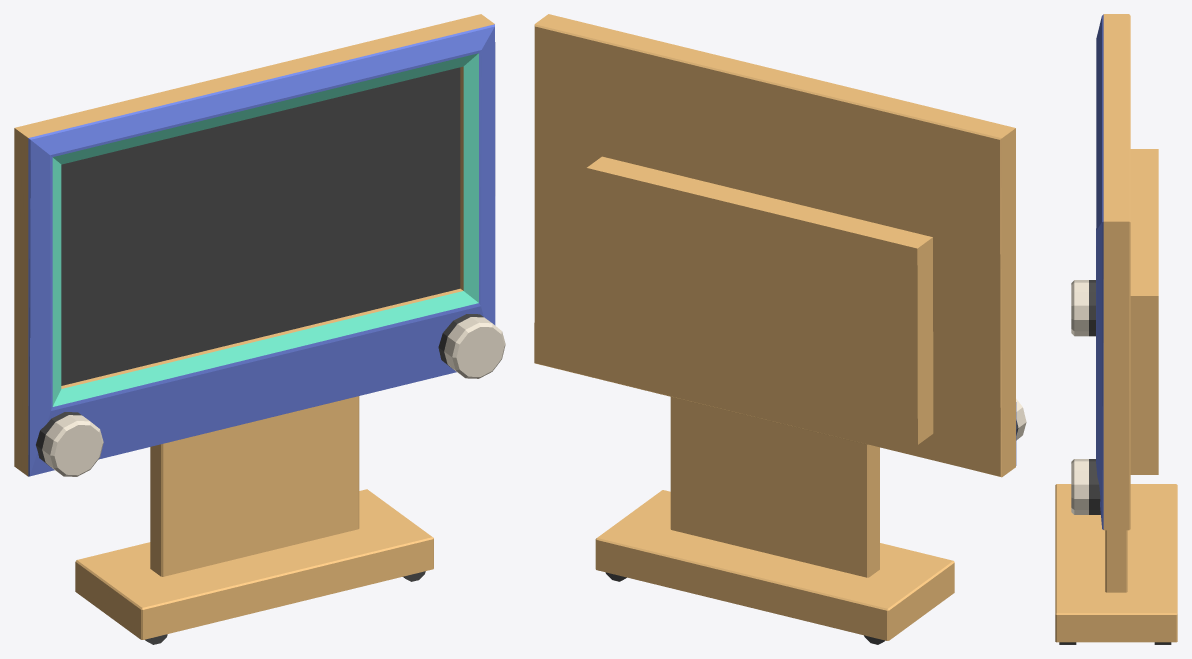
Rendered from Monitor_01.FBX.
3 views of the same model, side by side, from view 1: azimuth 30°, elevation 25°; view 2: azimuth 150°, elevation 25°; view 3: azimuth 270°, elevation 25° (orthographic). The views are drawn at different scales.
Parts seen in each view (by area): view 1: Monitor_01, Monitor_Panel_01; view 2: Monitor_01; view 3: Monitor_01.
Part boxes in pixels (box(x1,y1,x2,y2)): Monitor_01: box(14, 14, 505, 644); Monitor_Panel_01: box(61, 67, 460, 385); Monitor_01: box(534, 14, 1026, 644); Monitor_01: box(1055, 14, 1177, 644).
Bounding box in the file's own units: 2.79 × 2.93 × 0.6937.
